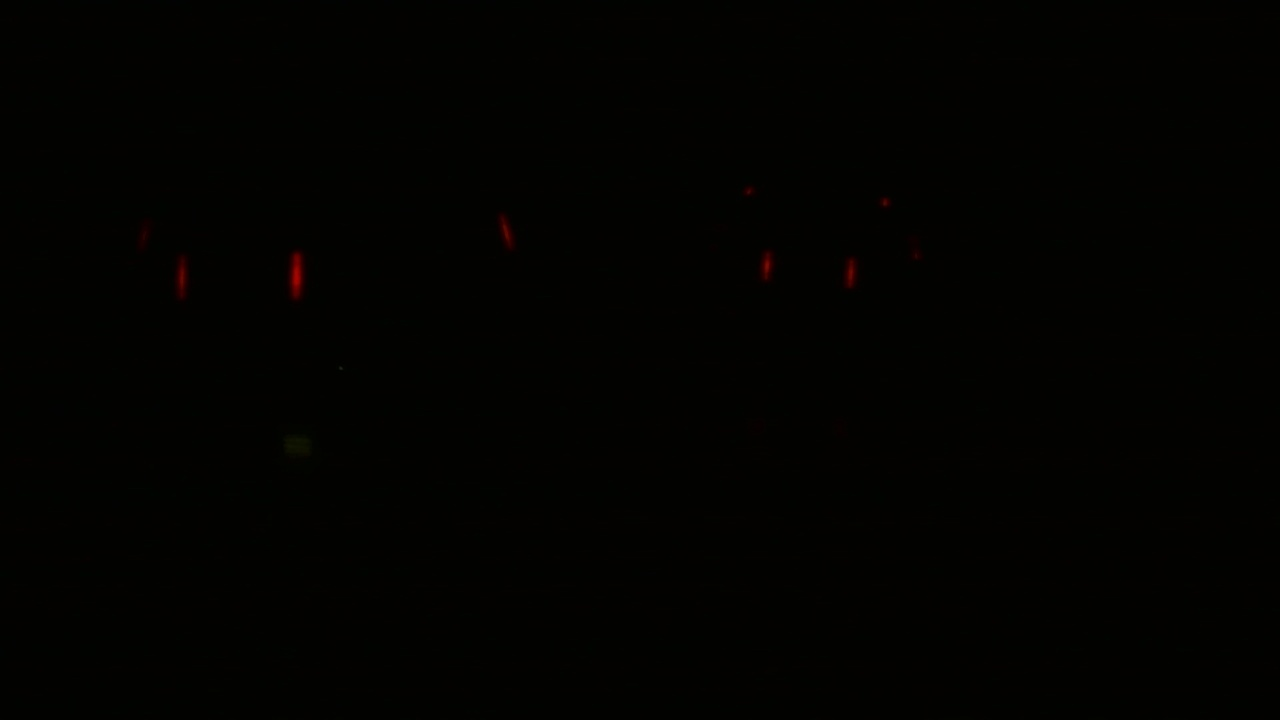pair1: (174, 254, 304, 303), (755, 246, 858, 291)
